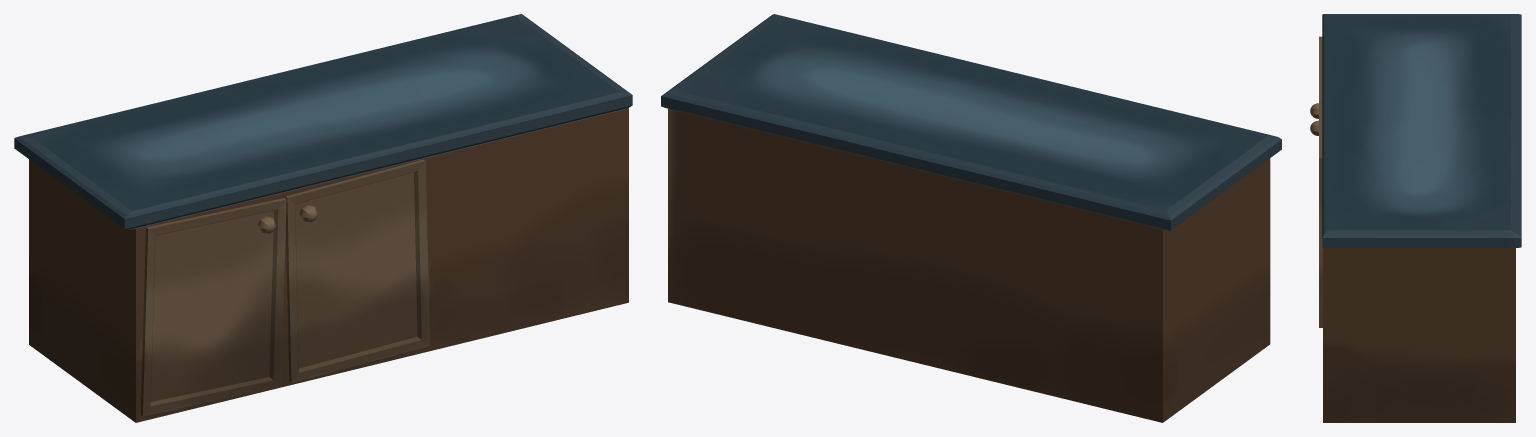
Rendered from DeskKitchen.fbx.
3 renders of one model, left to right at view 1: azimuth 30°, elevation 25°; view 2: azimuth 150°, elevation 25°; view 3: azimuth 270°, elevation 25°, orthographic. The views are drawn at different scales.
Parts seen in each view (by area): view 1: Mesada2; view 2: Mesada2; view 3: Mesada2.
Part boxes in pixels (x1,y1,x2,y2): Mesada2: (14, 14, 632, 422); Mesada2: (661, 14, 1281, 422); Mesada2: (1310, 14, 1521, 422).
Size of the model in its own units: 803 by 318 by 321.
